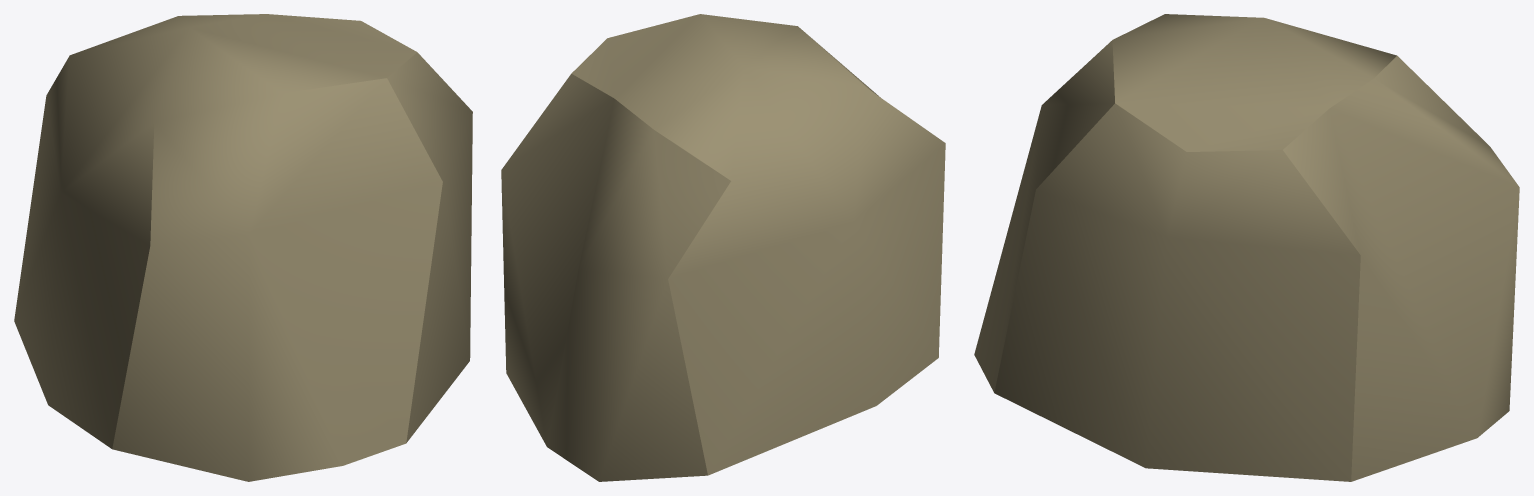
File: rock2.obj
3 views of the same model, side by side, from view 1: azimuth 30°, elevation 25°; view 2: azimuth 150°, elevation 25°; view 3: azimuth 270°, elevation 25° (orthographic). The views are drawn at different scales.
Visible parts, largest first — view 1: pasted__stone graystone; view 2: pasted__stone graystone; view 3: pasted__stone graystone.
Boxes of the visible parts, x1=… form: pasted__stone graystone: x1=14, y1=14, x2=472, y2=481; pasted__stone graystone: x1=501, y1=14, x2=945, y2=481; pasted__stone graystone: x1=974, y1=14, x2=1519, y2=481.
Bounding box in the file's own units: 1.14 × 1.08 × 1.42.
